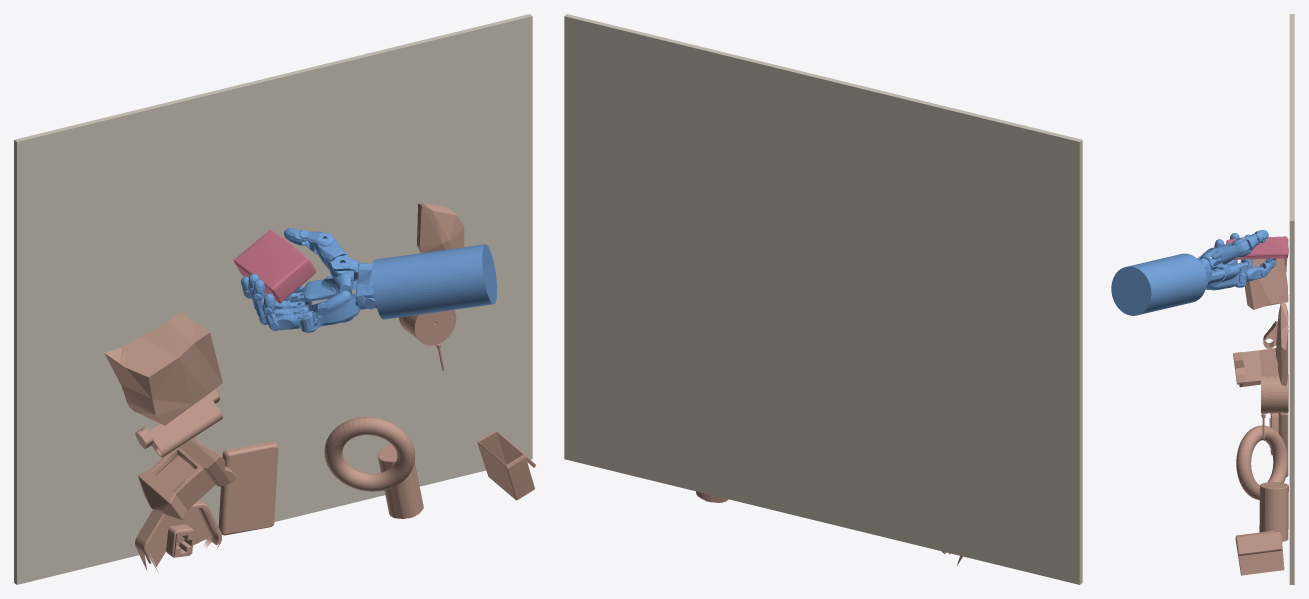
The picture shows the model from 3 angles, left to right: view 1: azimuth 30°, elevation 25°; view 2: azimuth 150°, elevation 25°; view 3: azimuth 270°, elevation 25°; orthographic projection. The views are drawn at different scales.
Parts seen in each view (by area): view 1: environment, hand, obstacle_004, obstacle_008, obstacle_005, obstacle_009, obstacle_003, world, obstacle_006, obstacle_007, obstacle_000, obstacle_002 (+1 smaller); view 2: environment; view 3: hand, environment, obstacle_009, obstacle_007, obstacle_004, obstacle_002, obstacle_005, obstacle_001, obstacle_000, world, obstacle_008, obstacle_006.
Boxes of the visible parts, bbox=[...] form: environment: bbox=[14, 14, 532, 584]; hand: bbox=[241, 228, 496, 332]; obstacle_004: bbox=[104, 312, 222, 425]; obstacle_008: bbox=[218, 441, 278, 535]; obstacle_005: bbox=[138, 436, 236, 519]; obstacle_009: bbox=[324, 417, 414, 491]; obstacle_003: bbox=[135, 499, 221, 572]; world: bbox=[233, 230, 316, 303]; obstacle_006: bbox=[135, 389, 222, 457]; obstacle_007: bbox=[477, 430, 535, 500]; obstacle_000: bbox=[417, 203, 464, 253]; obstacle_002: bbox=[377, 444, 423, 518]; environment: bbox=[564, 14, 1082, 584]; hand: bbox=[1111, 230, 1276, 315]; environment: bbox=[1289, 14, 1294, 584]; obstacle_009: bbox=[1236, 425, 1287, 499]; obstacle_007: bbox=[1235, 530, 1284, 575]; obstacle_004: bbox=[1245, 239, 1288, 309]; obstacle_002: bbox=[1259, 482, 1288, 541]; obstacle_005: bbox=[1233, 347, 1278, 387]; obstacle_001: bbox=[1261, 374, 1288, 438]; obstacle_000: bbox=[1276, 302, 1288, 385]; world: bbox=[1226, 236, 1288, 259]; obstacle_008: bbox=[1278, 413, 1288, 477]; obstacle_006: bbox=[1263, 321, 1288, 348].
Bounding box in the file's own units: 0.786 × 0.6697 × 0.2944.
